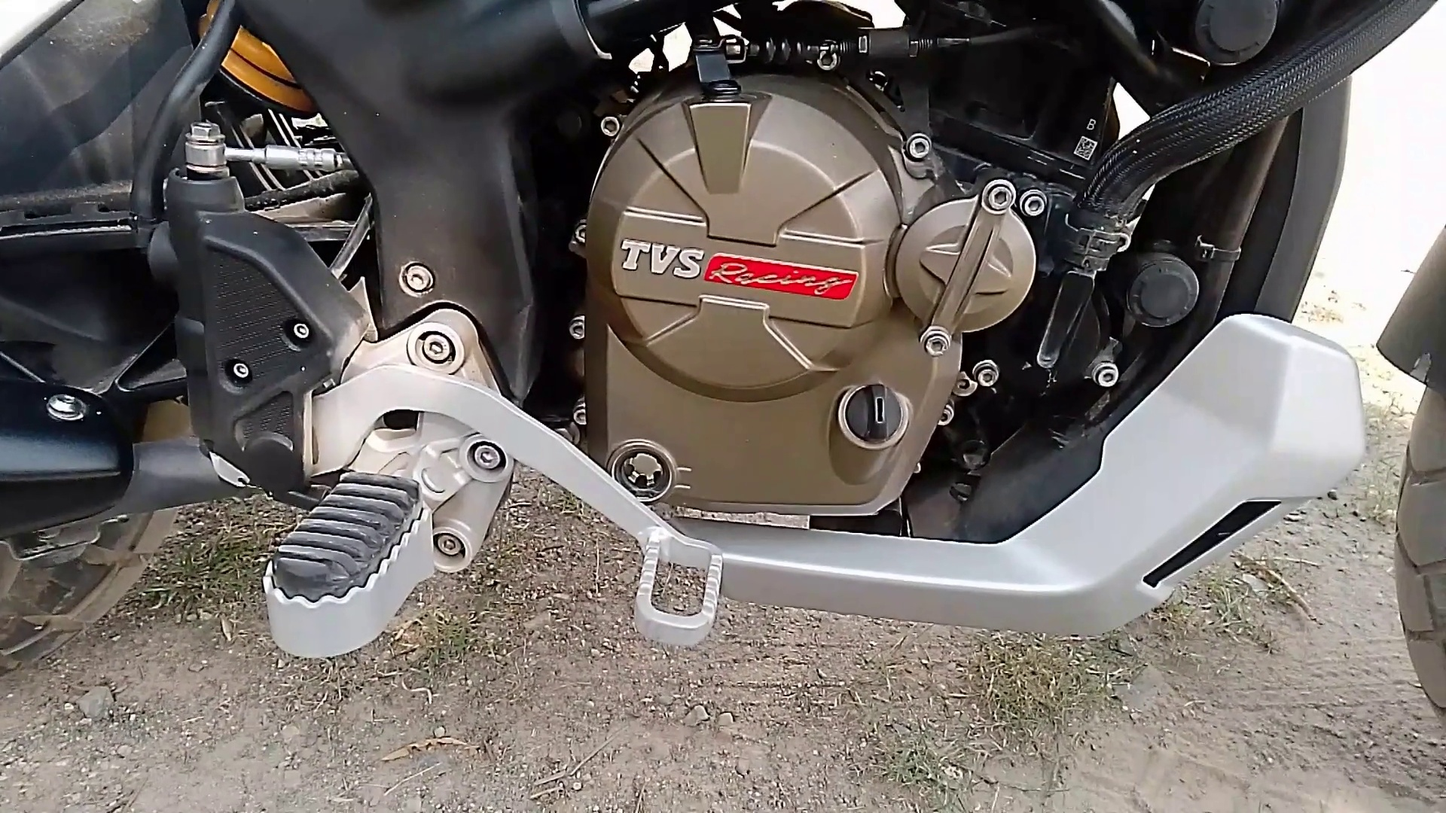engine: (565, 34, 1064, 550)
oil_cap: (827, 359, 919, 465)
oil_marker: (595, 427, 715, 512)
